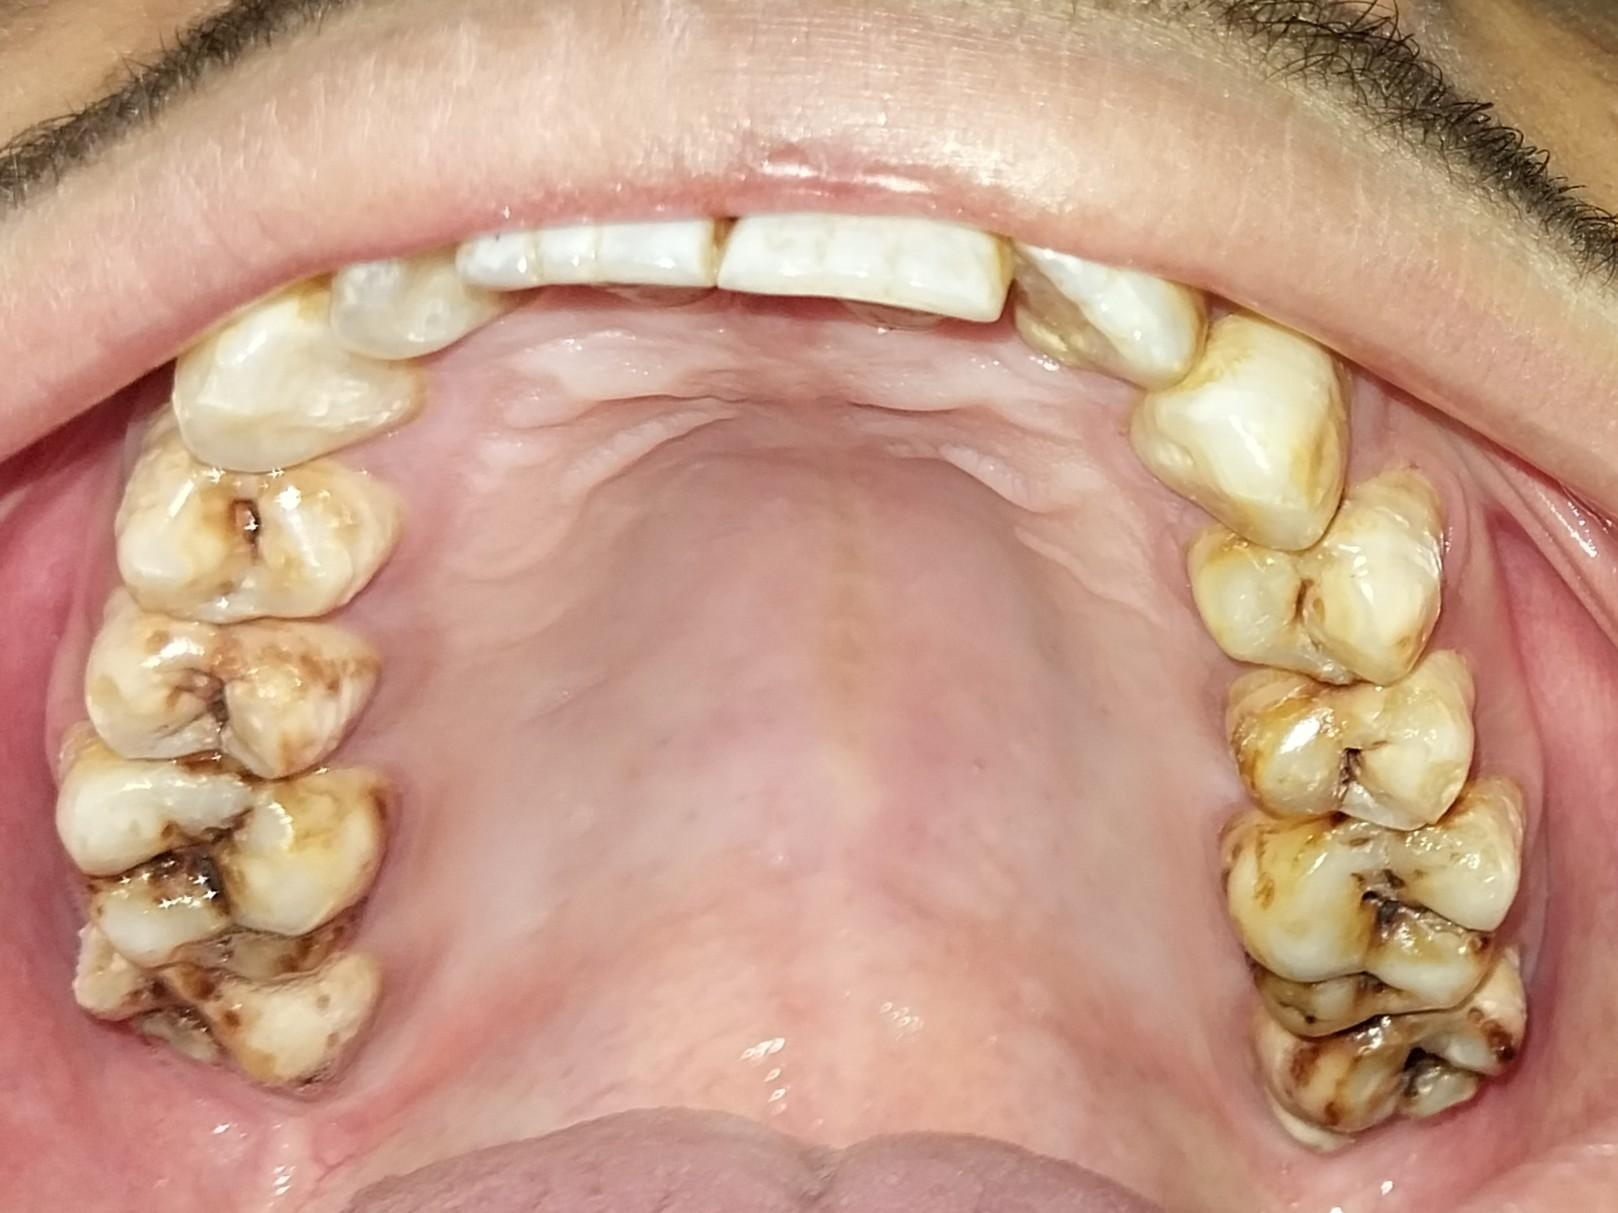D: (1221, 783, 1523, 1039), (52, 748, 398, 962), (67, 898, 384, 1091), (1246, 964, 1531, 1152), (104, 446, 390, 629), (90, 606, 377, 781), (1184, 514, 1452, 687), (1227, 656, 1484, 827)
